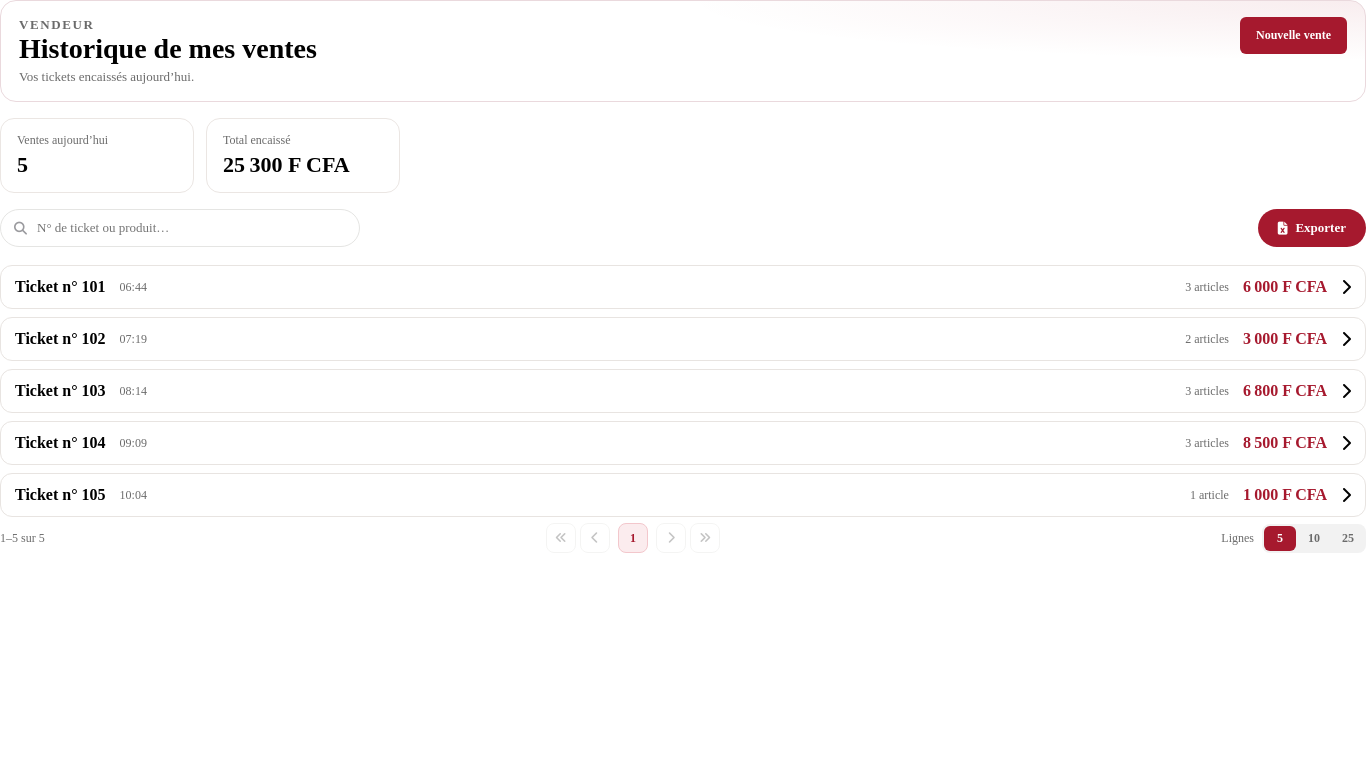
Test case: Historique des ventes (Vendeur) › opens the receipt modal for a ticket, with a way to reprint it
The image size is (1366, 768).
Click the text "Ticket n° 101" at (60, 287), box [15,278,106,296]
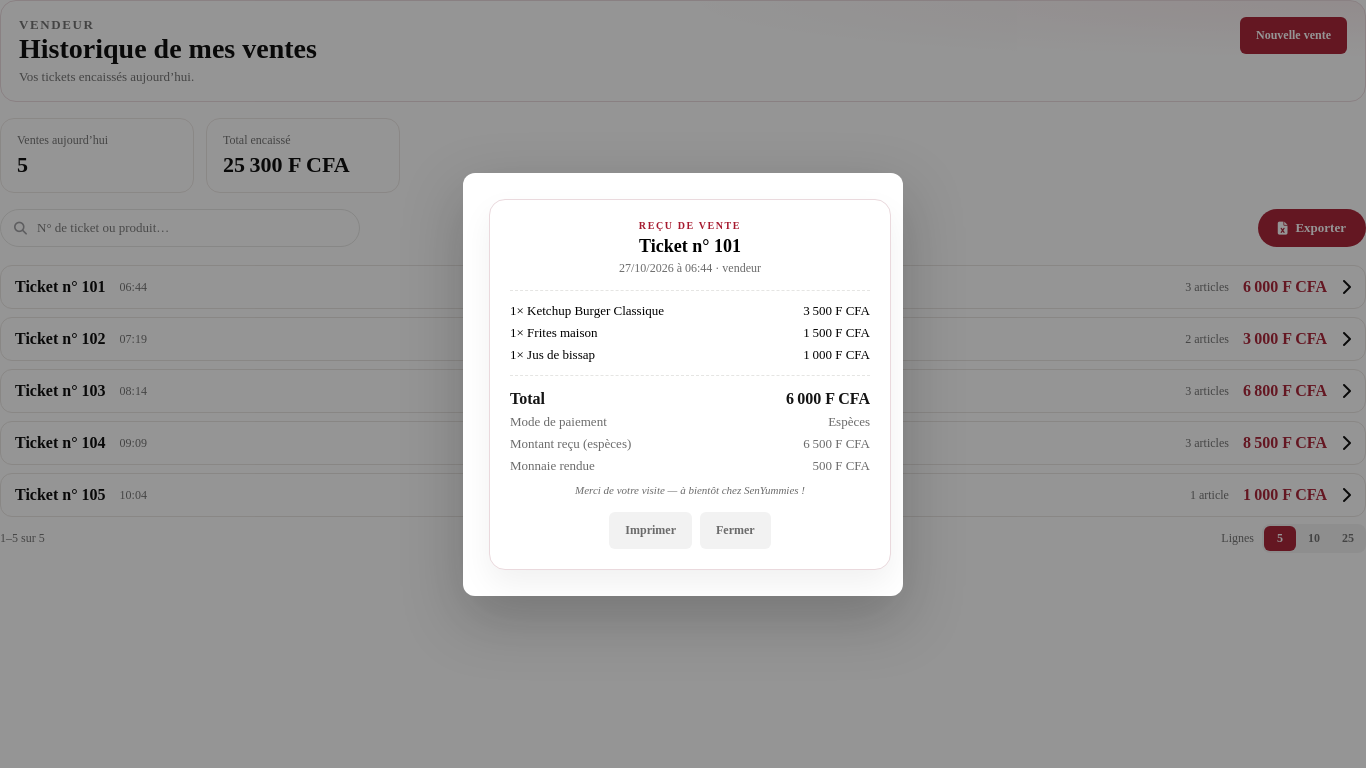
Expected: the dialog named "Reçu du ticket n° 101" is shown, [463,172,903,596]
Expected: the button "Imprimer" is shown, [609,512,692,548]
